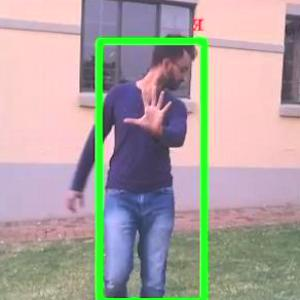follow_hand: (122, 81, 179, 139)
